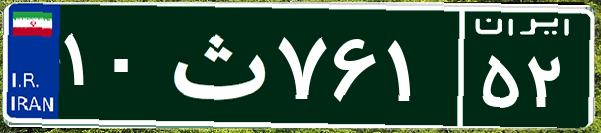0: (110, 28, 158, 105)
1: (385, 28, 445, 110), (57, 26, 110, 107)
2: (525, 38, 570, 115)
5: (475, 38, 525, 113)
6: (330, 28, 385, 110)
7: (273, 28, 330, 110)
ث: (158, 15, 273, 115)
